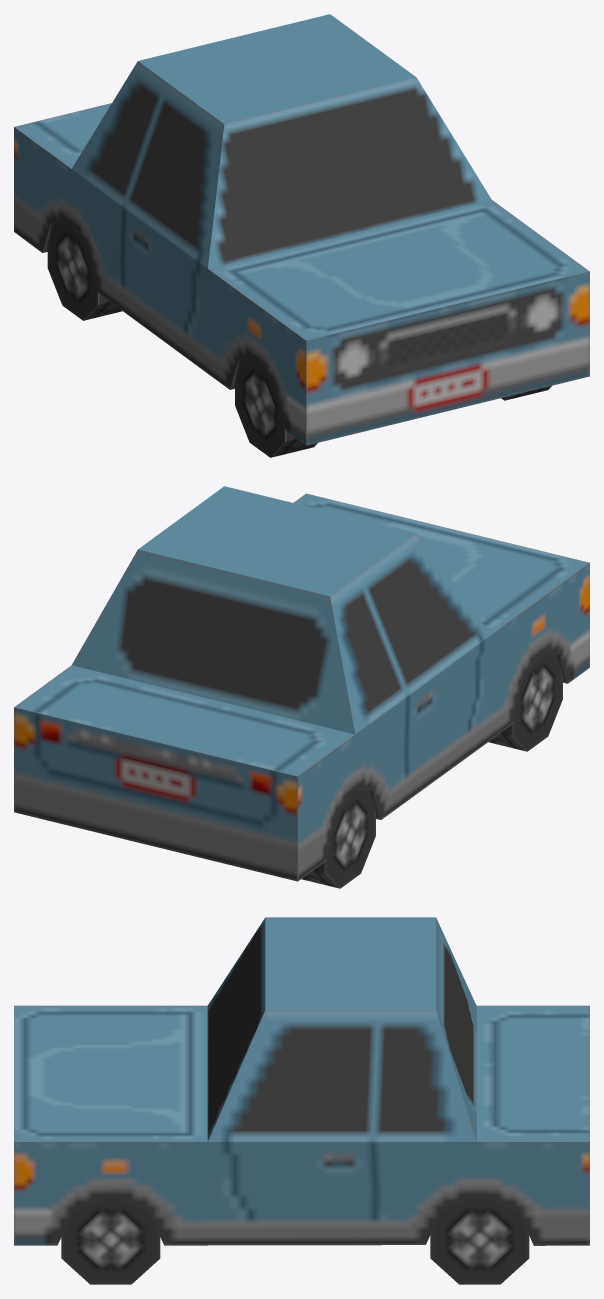
The model's file is Car1.fbx.
3 views of the same model, one above another, from view 1: azimuth 30°, elevation 25°; view 2: azimuth 150°, elevation 25°; view 3: azimuth 270°, elevation 25° (orthographic).
Visible parts, largest first — view 1: Plane, Circle, Circle.001; view 2: Plane, Circle.001, Circle; view 3: Plane, Circle.001, Circle.
Part boxes in pixels (x1,y1,x2,y2): Plane: [14, 14, 589, 445]; Circle: [235, 360, 551, 457]; Circle.001: [47, 223, 122, 320]; Plane: [14, 486, 589, 881]; Circle.001: [301, 791, 375, 888]; Circle: [488, 654, 562, 751]; Plane: [14, 917, 589, 1245]; Circle.001: [430, 1196, 529, 1284]; Circle: [61, 1197, 160, 1284].
Size of the model in its own units: 283 by 246 by 505.
